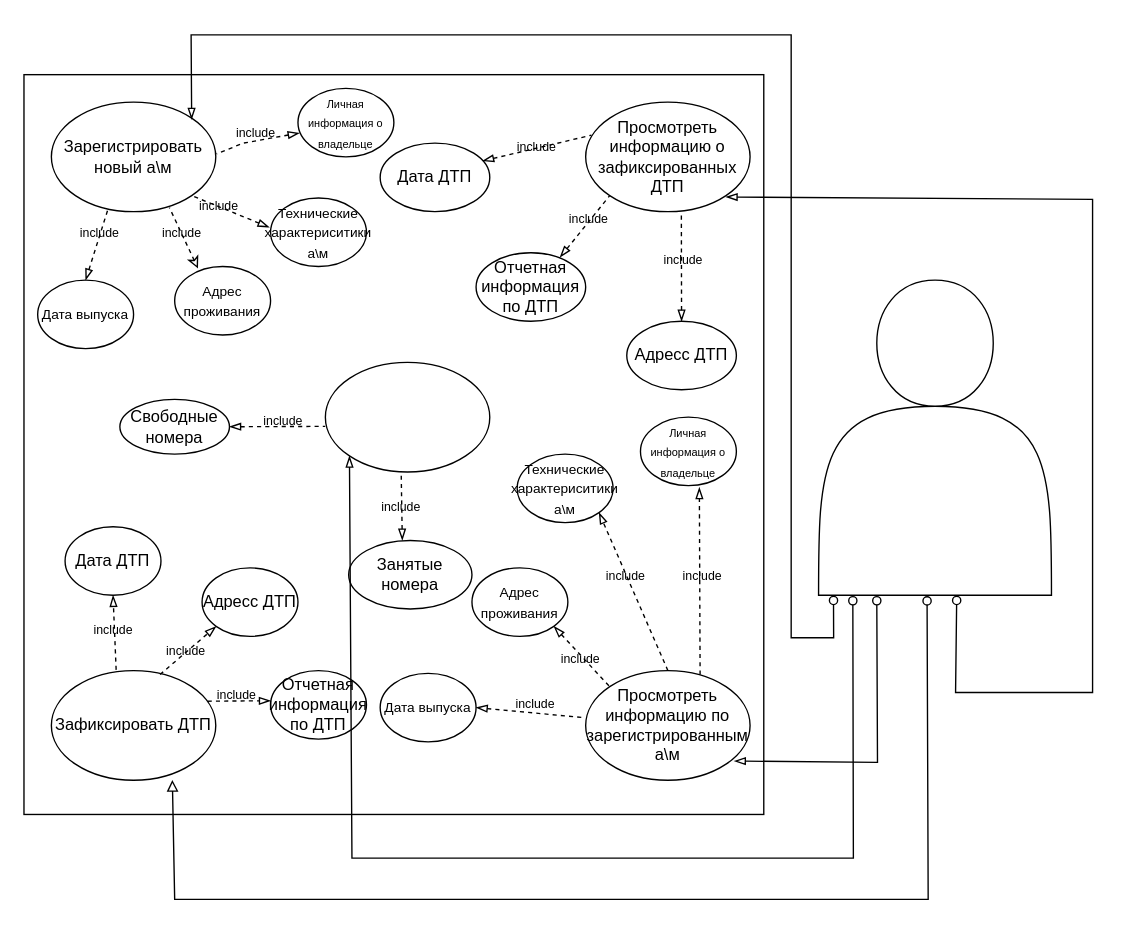
The diagram is 1129 pixels wide and 936 high, and some of its shapes have lost their labels. Each missing label, with the centre of its shape:
"Администратор" belongs at pixel 934 437.
"Просмотреть информацию о доступных и зарегистрированных гос.номерах" belongs at pixel 407 416.
